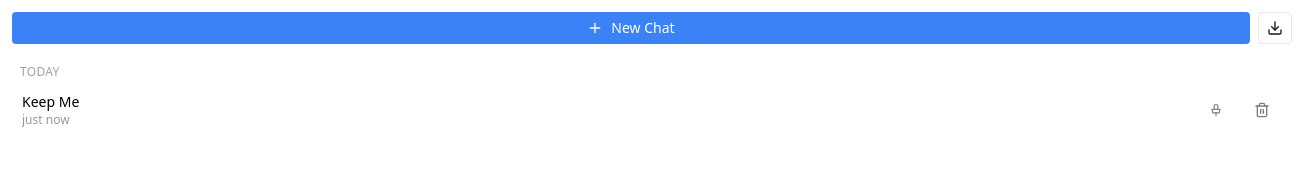
CH-5: Delete with confirmation › cancelling delete keeps the conversation
Expected: the text "Keep Me" is shown, [22,92,79,111]
Click the button with test id "delete-conversation-conv-keep": (1262, 110) [1240,88,1284,132]
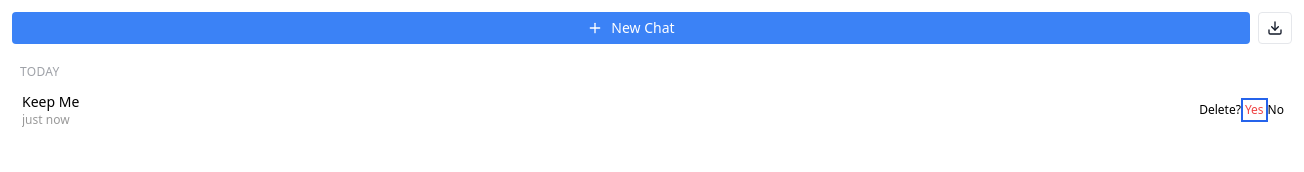
Click the button "No": (1276, 110) [1268,102,1284,118]
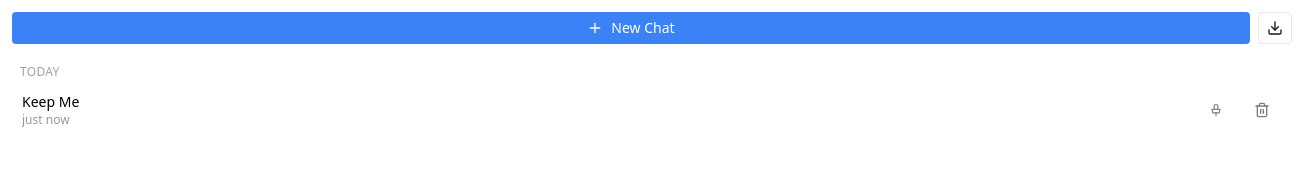
Expected: the text "Keep Me" is shown, [22,92,79,111]
Expected: the text "Delete?" is gone
